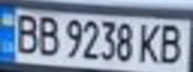2: (78, 16, 100, 61)
3: (100, 18, 118, 62)
8: (115, 19, 139, 63)
9: (60, 16, 84, 58)
B: (9, 10, 42, 55), (154, 21, 187, 65), (33, 14, 60, 57)
K: (136, 20, 163, 64)
